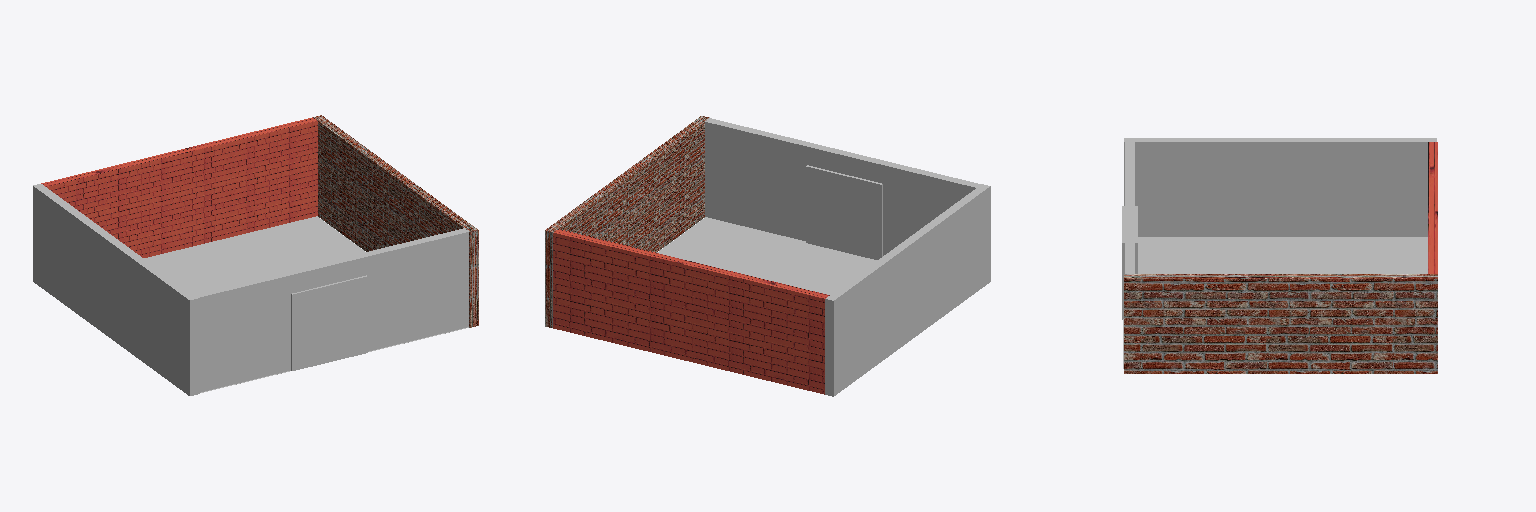
3 views of the same model, side by side, from view 1: azimuth 30°, elevation 25°; view 2: azimuth 150°, elevation 25°; view 3: azimuth 270°, elevation 25° (orthographic).
Visible parts, largest first — view 1: Cube.008_Cube.009, Cube.006_Cube.007, Cube.009_Cube.010, Cube.007_Cube.008, Plane.002, Cube.005_Cube.006; view 2: Cube.008_Cube.009, Cube.009_Cube.010, Cube.006_Cube.007, Cube.007_Cube.008, Plane.002, Cube.005_Cube.006; view 3: Cube.007_Cube.008, Cube.009_Cube.010, Plane.002, Cube.008_Cube.009, Cube.006_Cube.007.
Boxes of the visible parts, box(x1,y1,x2,y2) form: Cube.008_Cube.009: box(41, 117, 317, 257); Cube.006_Cube.007: box(193, 228, 468, 393); Cube.009_Cube.010: box(33, 184, 197, 395); Cube.007_Cube.008: box(313, 115, 478, 327); Plane.002: box(144, 216, 468, 392); Cube.005_Cube.006: box(291, 275, 367, 370); Cube.008_Cube.009: box(553, 229, 829, 394); Cube.009_Cube.010: box(825, 184, 990, 396); Cube.006_Cube.007: box(705, 118, 981, 255); Cube.007_Cube.008: box(545, 116, 709, 327); Plane.002: box(657, 217, 877, 294); Cube.005_Cube.006: box(806, 165, 882, 259); Cube.007_Cube.008: box(1124, 274, 1437, 373); Cube.009_Cube.010: box(1124, 138, 1436, 236); Plane.002: box(1123, 237, 1427, 368); Cube.008_Cube.009: box(1428, 142, 1437, 273); Cube.006_Cube.007: box(1125, 142, 1134, 273).
Size of the model in its own units: 27.17 by 8.62 by 25.67.
Materials: 6 (2 with a texture image).